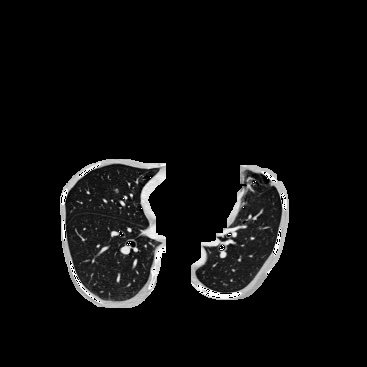PN: (114, 189, 118, 193)
